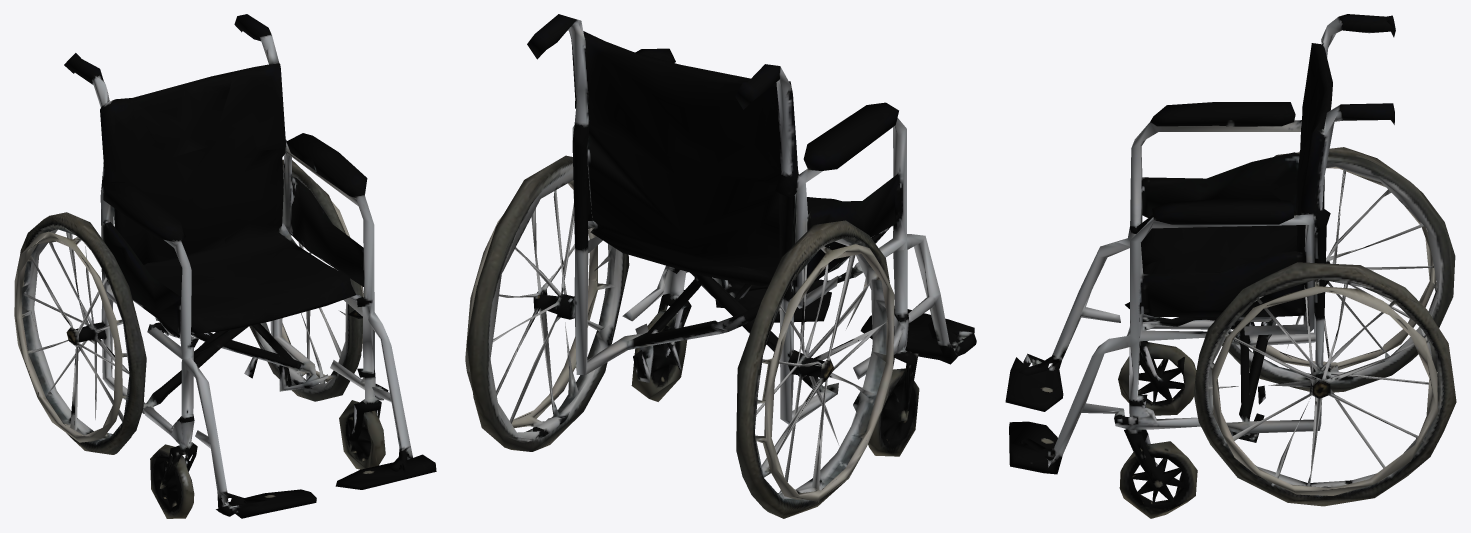
File: med_wheelchair.glb
3 renders of one model, left to right at view 1: azimuth 30°, elevation 25°; view 2: azimuth 150°, elevation 25°; view 3: azimuth 270°, elevation 25°, orthographic. The views are drawn at different scales.
Parts seen in each view (by area): view 1: med_wheelchair; view 2: med_wheelchair; view 3: med_wheelchair.
Part boxes in pixels (x1,y1,x2,y2): med_wheelchair: [14, 14, 436, 518]; med_wheelchair: [465, 14, 976, 518]; med_wheelchair: [1005, 14, 1456, 518].
Size of the model in its own units: 0.6514 by 0.9503 by 0.9515.
1 material, 1 textured.
